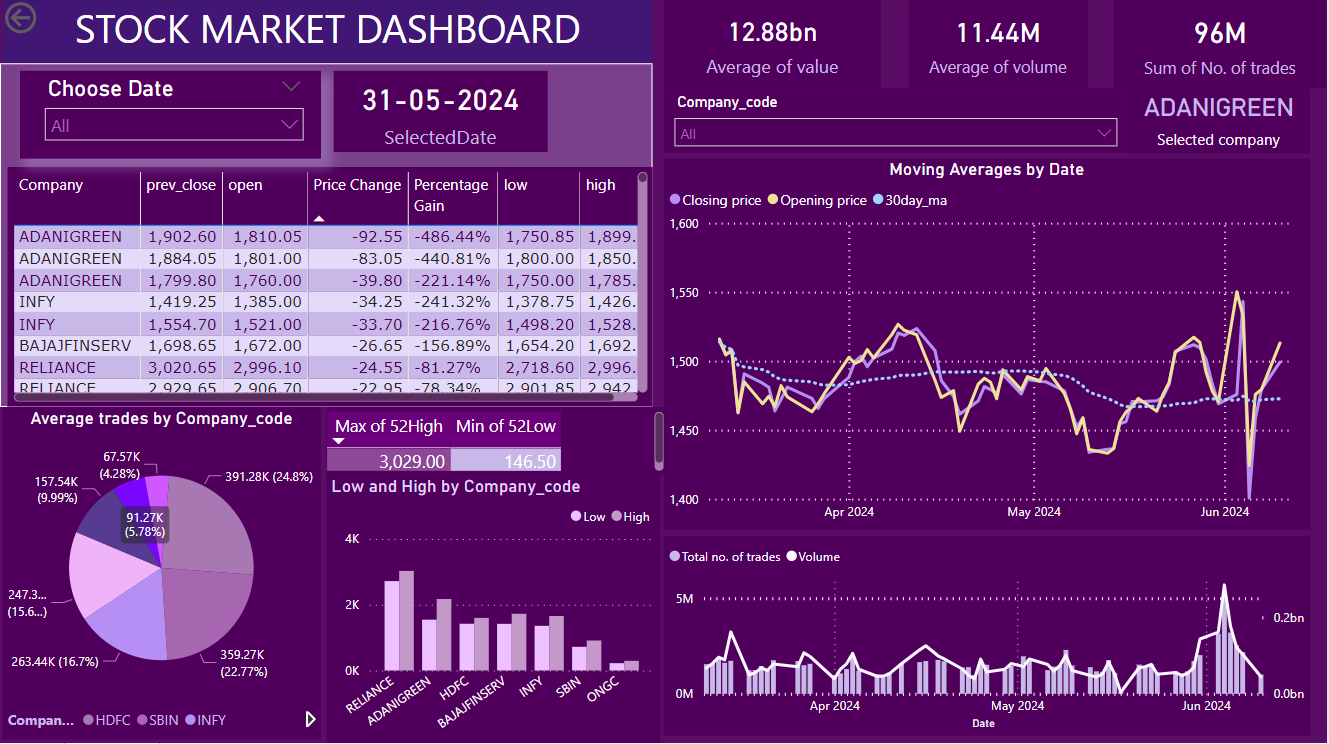

Layout of this report page (visuals, bound fields, positions):
{"tool":"powerbi","page":{"name":"Page 1","canvas":[1280,720],"ordinal":0},"visuals":[{"type":"textbox","box":[2.4,0,627.1,63.9],"z":0},{"type":"shape","box":[0,63.9,629.5,331.7],"z":1000},{"type":"tableEx","fields":{"Values":["CombinedTable.Company_code","CombinedTable.prev_close","CombinedTable.open","CombinedTable.Price Change","CombinedTable.Percentage Gain","CombinedTable.low","CombinedTable.high"]},"box":[7.2,164,622.3,231.6],"z":2000},{"type":"actionButton","box":[0,0,100,40],"z":3000},{"type":"slicer","fields":{"Values":["CombinedTable.Date_"]},"box":[19.3,71.2,290.7,84.4],"z":4000},{"type":"card","fields":{"Values":["ADANIGREEN.SelectedDate"]},"box":[322,71.2,206.2,78.4],"z":5000},{"type":"card","fields":{"Values":["Avg(CombinedTable.value)"]},"box":[640.4,0,209.8,88],"z":6000},{"type":"card","fields":{"Values":["Min(CombinedTable.Company_code)"]},"box":[1087.5,80,176.2,71.2],"z":7000},{"type":"card","fields":{"Values":["Avg(CombinedTable.volume)"]},"box":[876.8,0,172.5,88],"z":8000},{"type":"card","fields":{"Values":["Sum(CombinedTable.No. of trades)"]},"box":[1074.6,0,205,88],"z":9000},{"type":"lineStackedColumnComboChart","fields":{"Y":["Sum(CombinedTable.No. of trades)"],"Y2":["Sum(CombinedTable.volume)"],"Category":["CombinedTable.Date.Variation.Date Hierarchy.Month"]},"box":[640,520,623.8,192.5],"z":10000},{"type":"slicer","fields":{"Values":["CombinedTable.Company_code"]},"box":[640.4,88,447.4,62.7],"z":11000},{"type":"lineChart","title":"Moving Averages by Date","fields":{"Category":["CombinedTable.Date"],"Y":["Avg(CombinedTable.prev_close)","Avg(CombinedTable.open)","Avg(CombinedTable.30Day_MA)"]},"box":[640,155,623.8,358.8],"z":12000},{"type":"tableEx","title":"52W High and 52W Low","fields":{"Values":["Max(CombinedTable.52High)","Min(CombinedTable.52Low)"]},"box":[314.8,395.6,325.6,66.3],"z":13000},{"type":"clusteredColumnChart","fields":{"Category":["CombinedTable.Company_code"],"Y":["Min(CombinedTable.low)","Max(CombinedTable.high)"]},"box":[314.8,461.9,322,258.1],"z":14000},{"type":"pieChart","fields":{"Category":["CombinedTable.Company_code"],"Y":["Avg(CombinedTable.No. of trades)"]},"box":[2.4,395.6,307,321],"z":15000}]}

Visuals, with their boxes in screenshot pixels (x1, y1, x2, y2), scaled from the page's 1280x720 canvas onto the 1329x744 screenshot:
textbox: detection(2, 0, 654, 66)
shape: detection(0, 66, 654, 409)
tableEx - CombinedTable.Company_code x CombinedTable.prev_close: detection(7, 169, 654, 409)
actionButton: detection(0, 0, 104, 41)
slicer - CombinedTable.Date_: detection(20, 74, 322, 161)
card - ADANIGREEN.SelectedDate: detection(334, 74, 548, 155)
card - Avg(CombinedTable.value): detection(665, 0, 883, 91)
card - Min(CombinedTable.Company_code): detection(1129, 83, 1312, 156)
card - Avg(CombinedTable.volume): detection(910, 0, 1089, 91)
card - Sum(CombinedTable.No. of trades): detection(1116, 0, 1328, 91)
lineStackedColumnComboChart - Sum(CombinedTable.No. of trades) x Sum(CombinedTable.volume): detection(664, 537, 1312, 736)
slicer - CombinedTable.Company_code: detection(665, 91, 1129, 156)
"Moving Averages by Date" lineChart: detection(664, 160, 1312, 531)
"52W High and 52W Low" tableEx: detection(327, 409, 665, 477)
clusteredColumnChart - CombinedTable.Company_code x Min(CombinedTable.low): detection(327, 477, 661, 743)
pieChart - CombinedTable.Company_code x Avg(CombinedTable.No. of trades): detection(2, 409, 321, 740)
